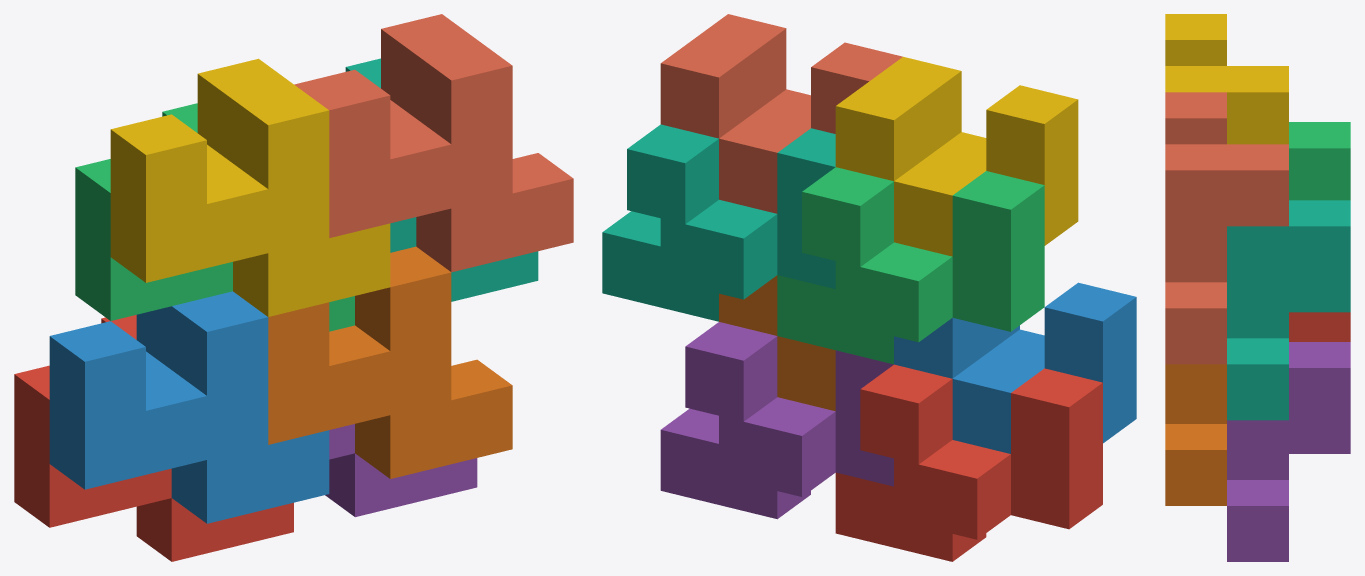
Rendered from tiling.obj.
3 renders of one model, left to right at view 1: azimuth 30°, elevation 25°; view 2: azimuth 150°, elevation 25°; view 3: azimuth 270°, elevation 25°, orthographic. The views are drawn at different scales.
Parts seen in each view (by area): view 1: copy_1_domain_4, copy_1_domain_2, copy_1_domain_8, copy_1_domain_6, copy_1_domain_1, copy_1_domain_3, copy_1_domain_5, copy_1_domain_7; view 2: copy_1_domain_1, copy_1_domain_3, copy_1_domain_7, copy_1_domain_4, copy_1_domain_5, copy_1_domain_8, copy_1_domain_2, copy_1_domain_6; view 3: copy_1_domain_8, copy_1_domain_7, copy_1_domain_5, copy_1_domain_4, copy_1_domain_6, copy_1_domain_3, copy_1_domain_1.
Part boxes in pixels (x1,y1,x2,y2): copy_1_domain_4: [110, 58, 390, 316]; copy_1_domain_2: [49, 291, 329, 523]; copy_1_domain_8: [294, 14, 573, 272]; copy_1_domain_6: [268, 246, 512, 478]; copy_1_domain_1: [14, 315, 293, 561]; copy_1_domain_3: [75, 103, 354, 331]; copy_1_domain_5: [325, 424, 477, 517]; copy_1_domain_7: [345, 58, 538, 301]; copy_1_domain_1: [835, 364, 1102, 561]; copy_1_domain_3: [777, 167, 1044, 364]; copy_1_domain_7: [602, 124, 835, 321]; copy_1_domain_4: [835, 56, 1078, 256]; copy_1_domain_5: [660, 322, 893, 519]; copy_1_domain_8: [660, 14, 902, 213]; copy_1_domain_2: [894, 282, 1136, 453]; copy_1_domain_6: [719, 275, 835, 411]; copy_1_domain_8: [1165, 92, 1288, 364]; copy_1_domain_7: [1227, 200, 1350, 420]; copy_1_domain_5: [1227, 342, 1350, 561]; copy_1_domain_4: [1165, 14, 1288, 144]; copy_1_domain_6: [1165, 364, 1226, 505]; copy_1_domain_3: [1289, 122, 1350, 200]; copy_1_domain_1: [1289, 312, 1350, 341].
Bounding box in the file's own units: 8 × 7 × 3.
